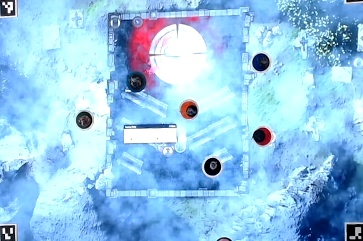black: (200, 155, 223, 178)
blue: (248, 52, 271, 75)
brown_turquoise: (123, 70, 146, 93)
green: (70, 110, 92, 133)
orange: (178, 99, 201, 122)
red: (249, 126, 272, 149)
